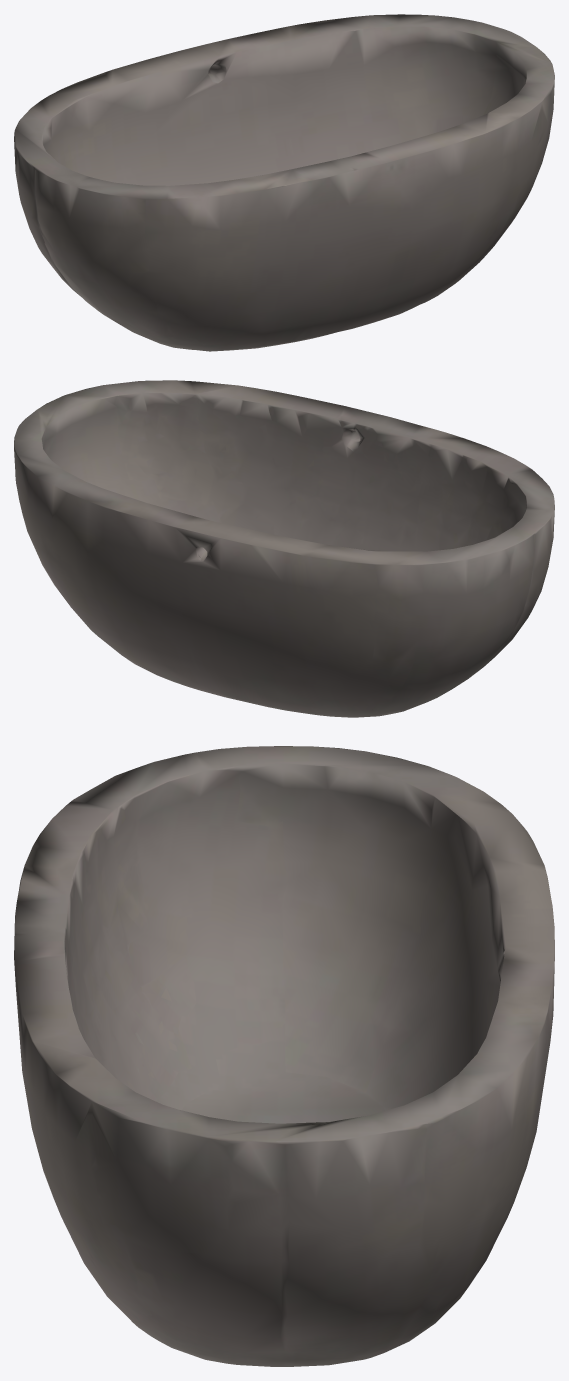
Rendered from xMsQyHS-7952gwd6pB126.glb.
3 views of the same model, one above another, from view 1: azimuth 30°, elevation 25°; view 2: azimuth 150°, elevation 25°; view 3: azimuth 270°, elevation 25° (orthographic). The views are drawn at different scales.
Parts seen in each view (by area): view 1: geometry_0; view 2: geometry_0; view 3: geometry_0.
Boxes of the visible parts, x1,y1,x2,y2 form: geometry_0: (14,14,554,351); geometry_0: (14,380,554,717); geometry_0: (14,746,554,1366).
Bounding box in the file's own units: 1 × 0.3731 × 0.5775.
Materials: 1 (1 with a texture image).
